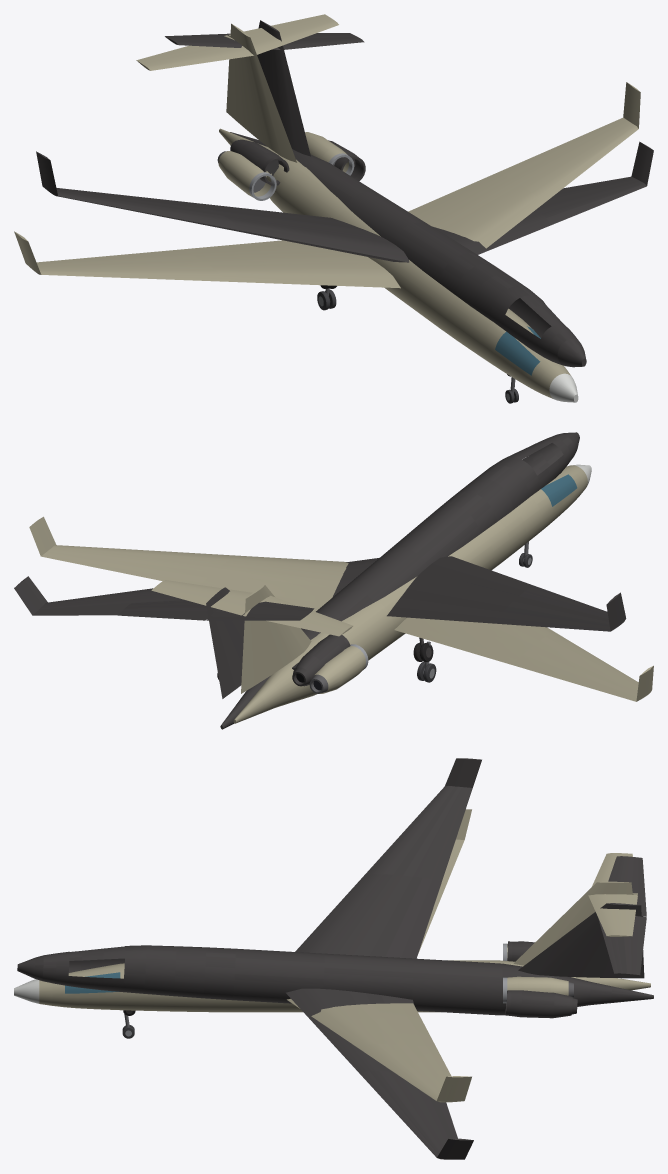
Rendered from aewc__g550_oron.glb.
The picture shows the model from 3 angles, top to bottom: view 1: azimuth 30°, elevation 25°; view 2: azimuth 150°, elevation 25°; view 3: azimuth 270°, elevation 25°; orthographic projection. The views are drawn at different scales.
Parts seen in each view (by area): view 1: Fuselage_Mesh, Wreck; view 2: Fuselage_Mesh, Wreck; view 3: Wreck, Fuselage_Mesh.
Part boxes in pixels (<box>): Fuselage_Mesh: <box>14,14,640,403</box>; Wreck: <box>36,20,653,376</box>; Fuselage_Mesh: <box>29,464,653,723</box>; Wreck: <box>14,432,626,729</box>; Wreck: <box>17,758,653,1159</box>; Fuselage_Mesh: <box>14,809,650,1102</box>.
Size of what is drawn, in the model's own units: 29.98 by 8.02 by 29.54.
